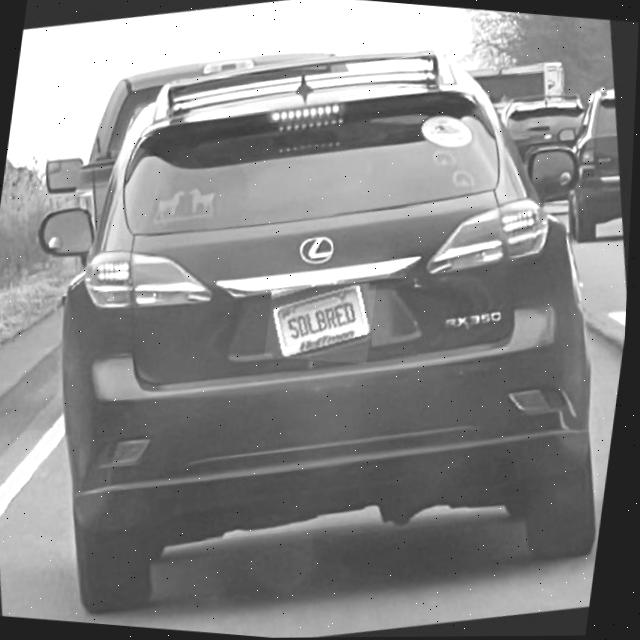LicensePlate: (273, 285, 374, 358)
